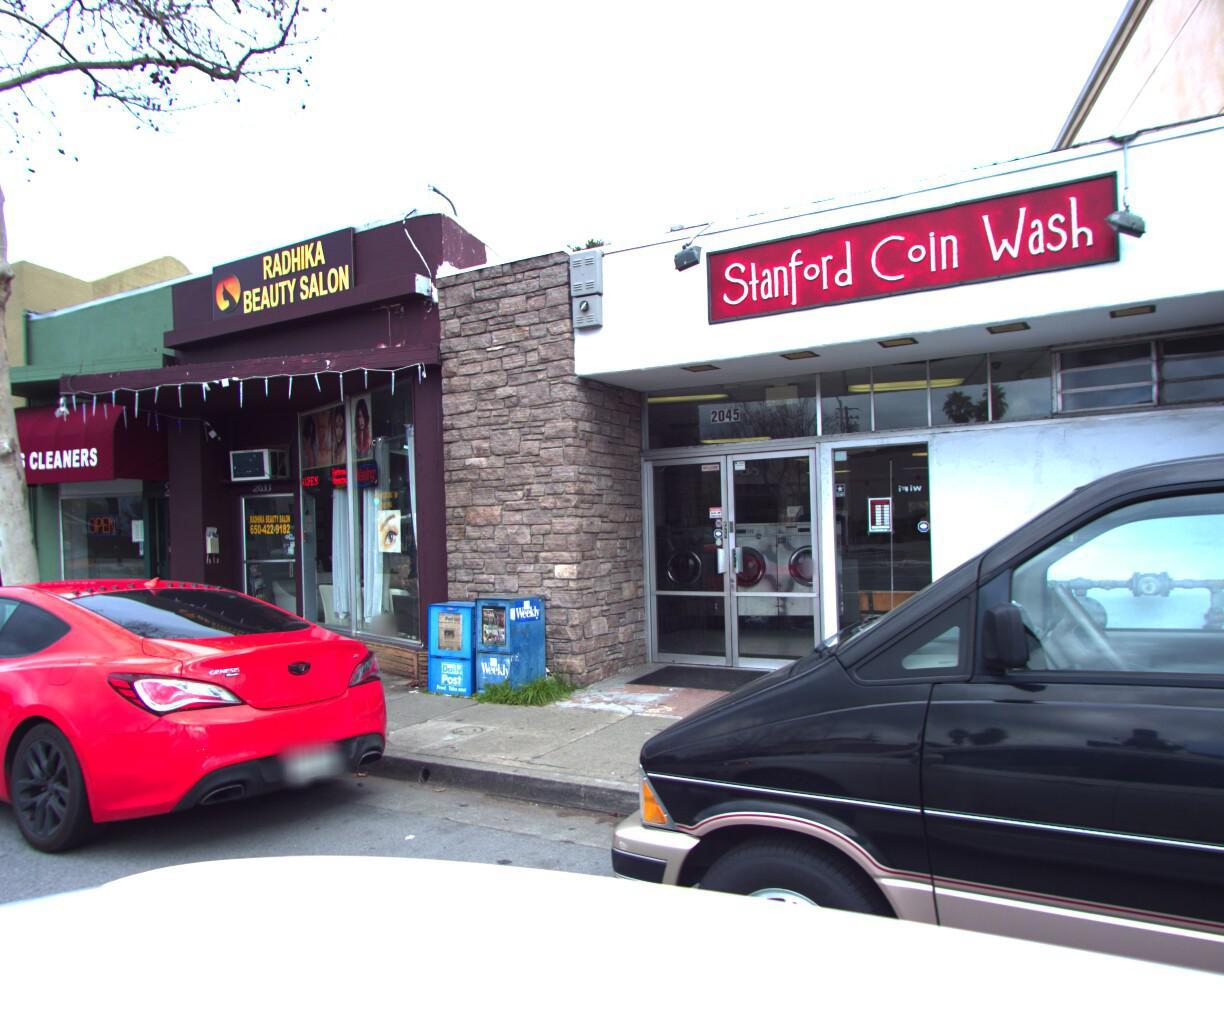car: (510, 0, 1224, 1024), (0, 554, 429, 921)
